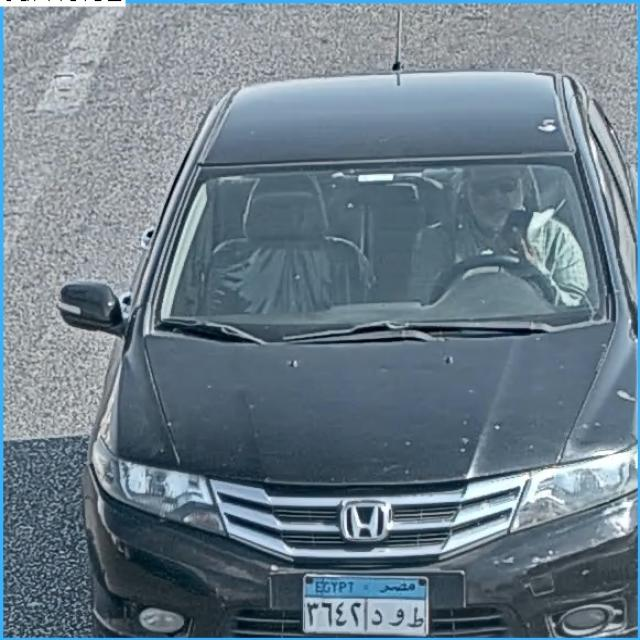windshield: (164, 152, 604, 340)
